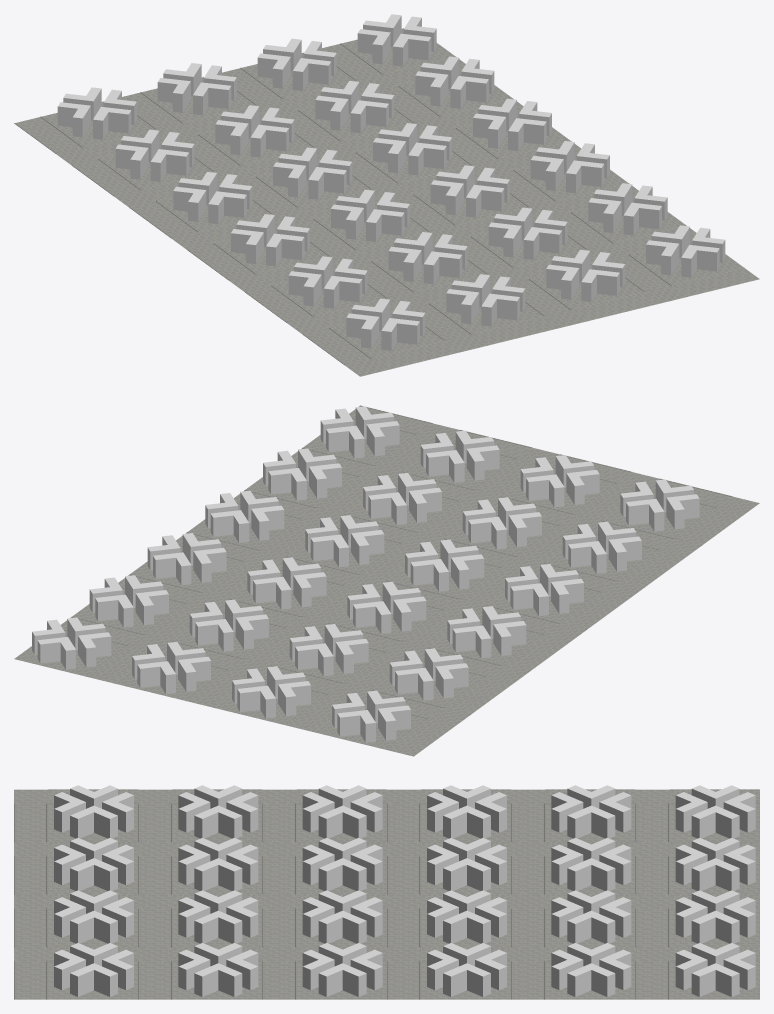
3 views of the same model, one above another, from view 1: azimuth 30°, elevation 25°; view 2: azimuth 150°, elevation 25°; view 3: azimuth 270°, elevation 25° (orthographic). The views are drawn at different scales.
Parts seen in each view (by area): view 1: Suzanne; view 2: Suzanne; view 3: Suzanne.
Part boxes in pixels (<box>): Suzanne: <box>14,14,759,376</box>; Suzanne: <box>14,405,759,756</box>; Suzanne: <box>14,785,759,999</box>.
Size of the model in its own units: 88 by 4 by 132.
Materials: 2 (1 with a texture image).
